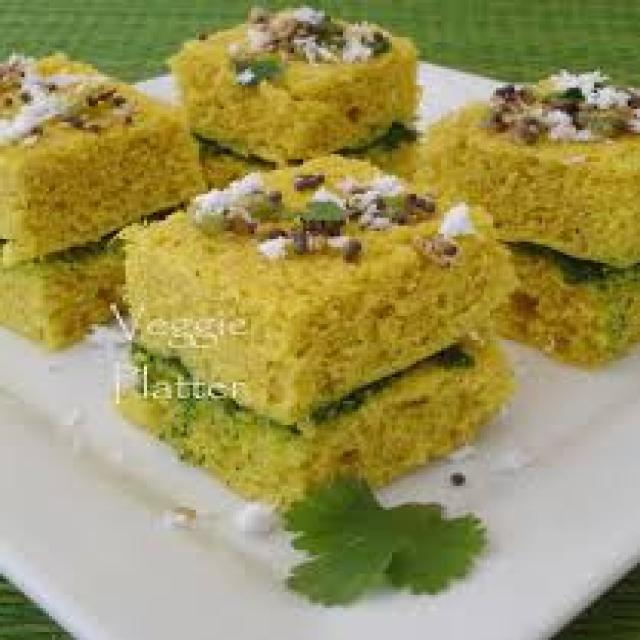DHOKLA: (115, 153, 518, 439), (131, 333, 508, 533), (420, 58, 637, 270), (4, 48, 200, 267), (176, 15, 427, 164), (0, 236, 143, 363), (498, 254, 637, 362)
